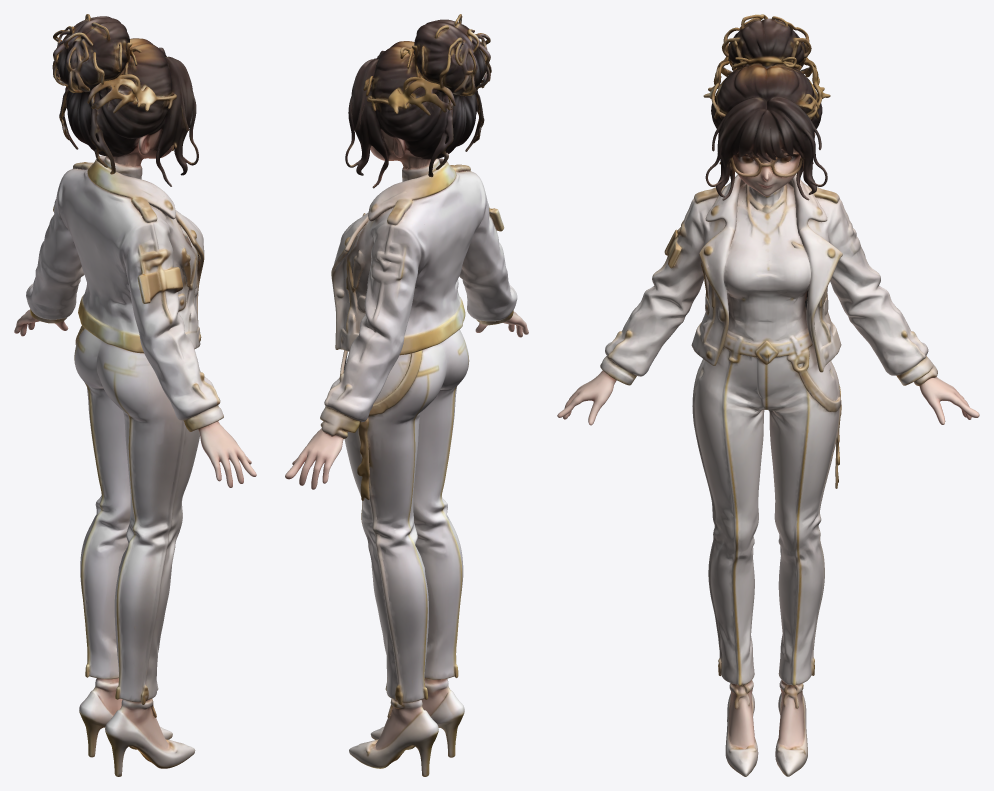
Rendered from Avatar.glb.
3 views of the same model, side by side, from view 1: azimuth 30°, elevation 25°; view 2: azimuth 150°, elevation 25°; view 3: azimuth 270°, elevation 25° (orthographic). The views are drawn at different scales.
Visible parts, largest first — view 1: tripo_node_8ed527ca; view 2: tripo_node_8ed527ca; view 3: tripo_node_8ed527ca.
Boxes of the visible parts, x1,y1,x2,y2 form: tripo_node_8ed527ca: (14,14,256,776); tripo_node_8ed527ca: (285,14,528,776); tripo_node_8ed527ca: (557,14,979,776).
Bounding box in the file's own units: 0.1818 × 1 × 0.5307.
Materials: 1 (1 with a texture image).
